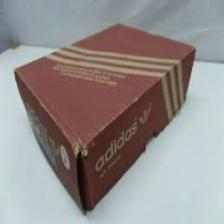cardboard: (6, 18, 197, 190)
